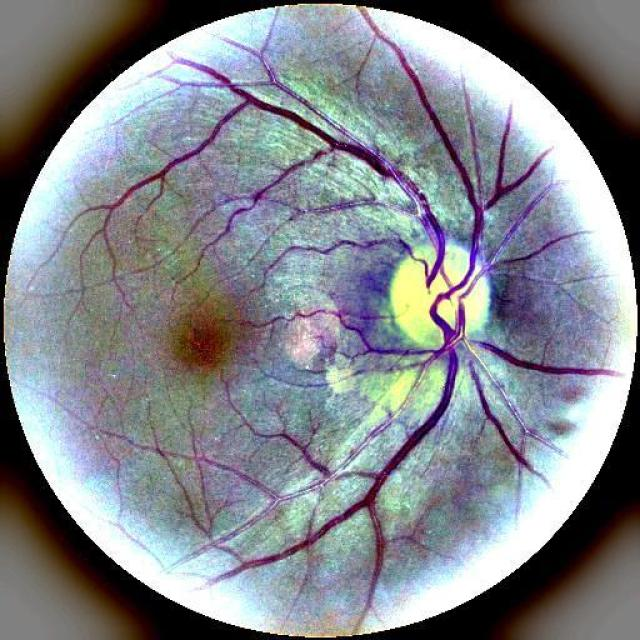Macula: (184, 319, 232, 372)
Nerves: (109, 8, 621, 611)
Optic Disk: (391, 244, 495, 347)
